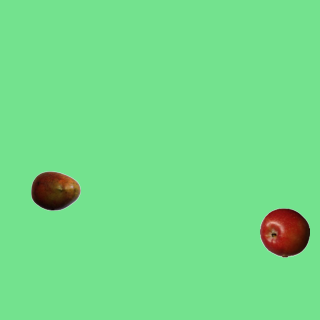Apple Braeburn: (259, 207, 309, 257)
Mango Red: (30, 165, 80, 215)
